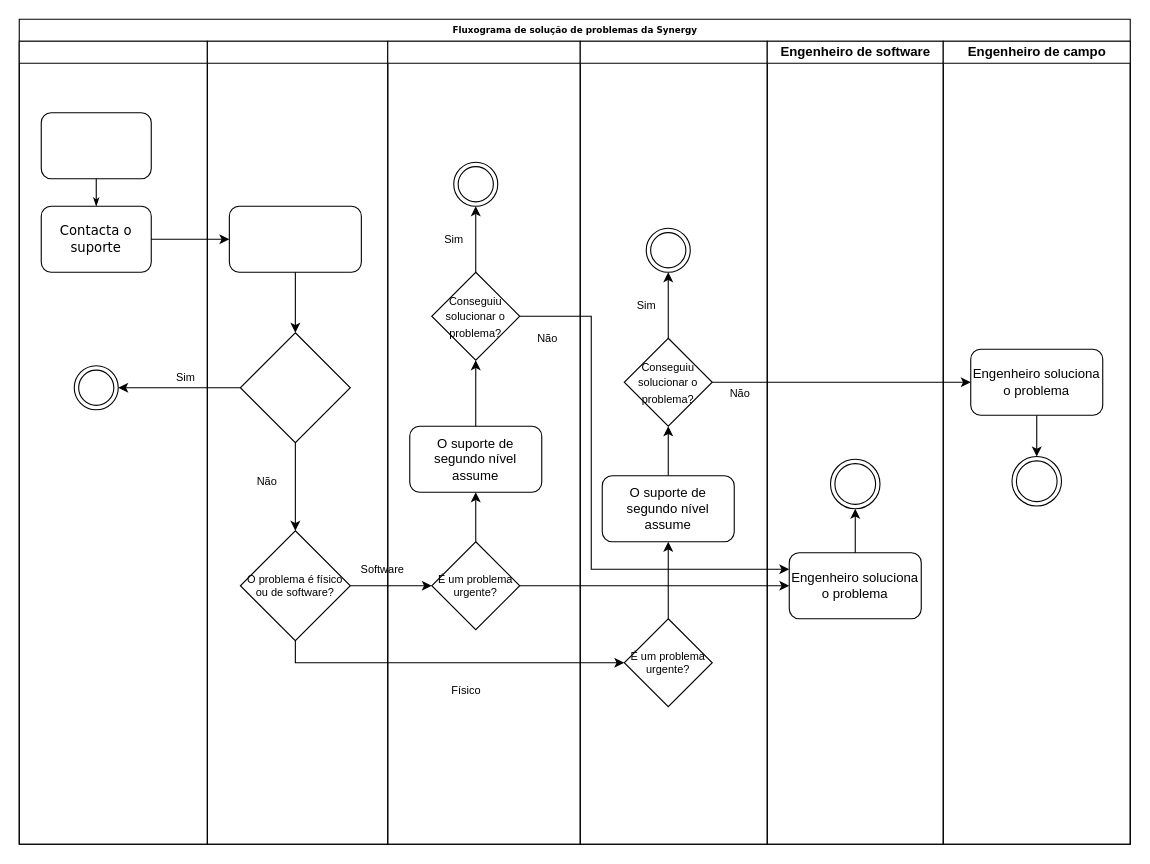
Some shapes in this 1150 by 864 pixel diagram are drawn without their labels. Each missing label, with the box of its shape:
Central de suporte: (206, 40, 388, 844)
Cliente: (18, 40, 207, 844)
Consegue solucionar?: (239, 332, 350, 443)
identifica o problema: (228, 205, 361, 272)
Ocorre uma falha: (40, 112, 151, 179)
Suporte de campo: (579, 40, 767, 844)
Suporte de software: (387, 40, 580, 844)
